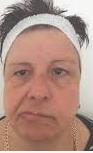strokeEyeWeak: (14, 61, 72, 82)
strokeMouthWeak: (20, 109, 55, 126)
